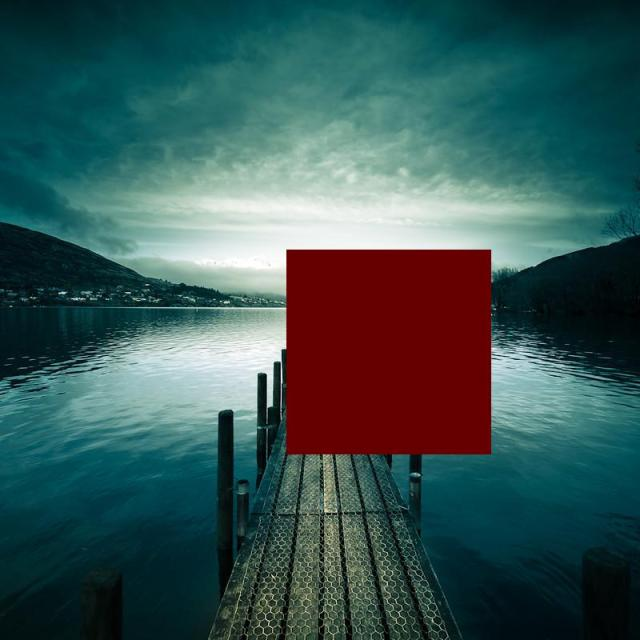RedSquare: (280, 239, 494, 457)
